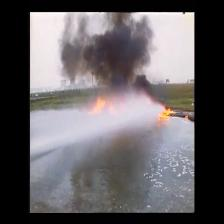smoke: (72, 20, 142, 78)
